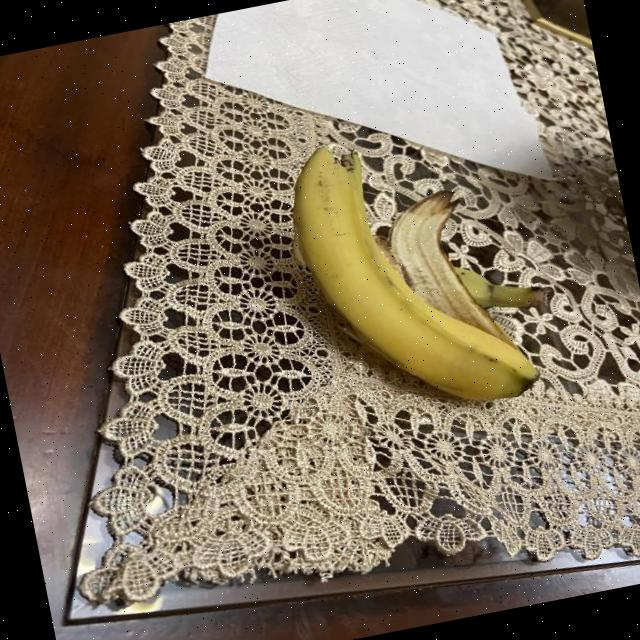banana-peel: (276, 108, 562, 434)
